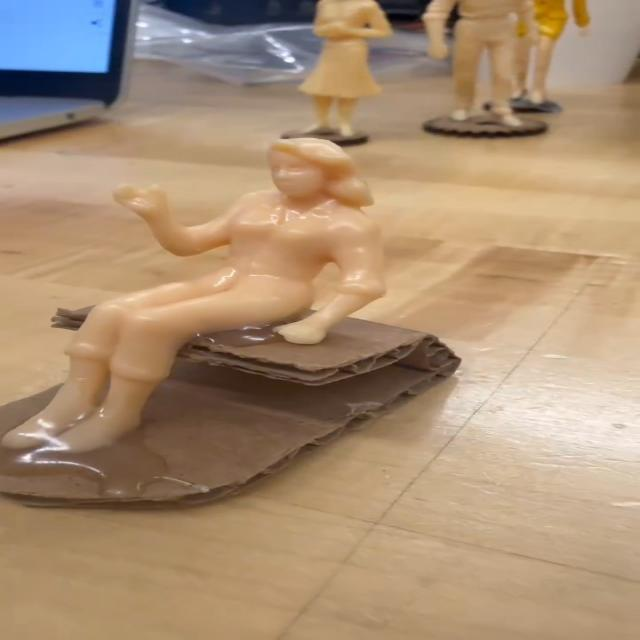Unauthorized: (40, 134, 402, 471)
